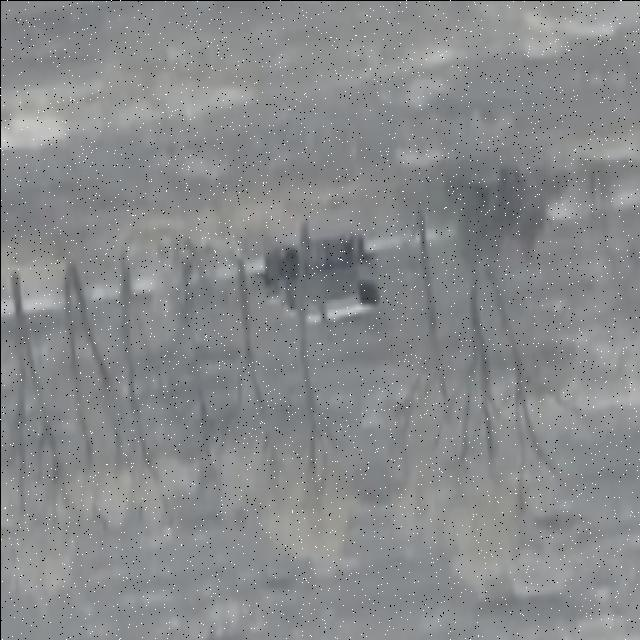TRUCK: (255, 228, 380, 328)
